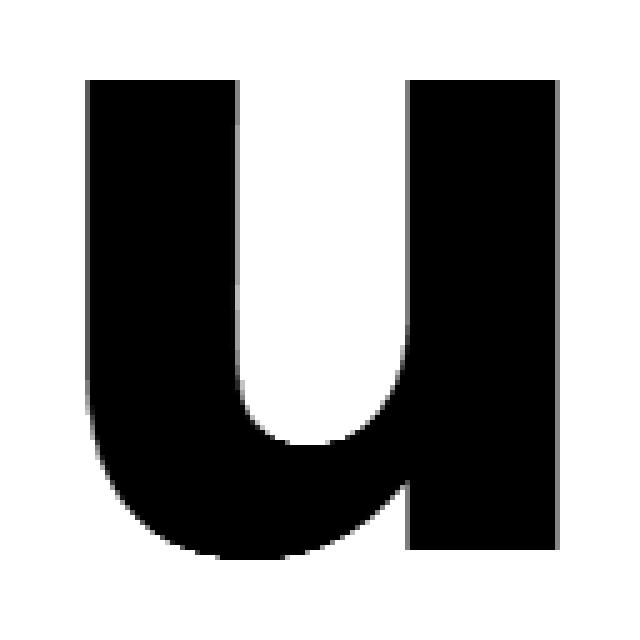U: (80, 70, 560, 560)
